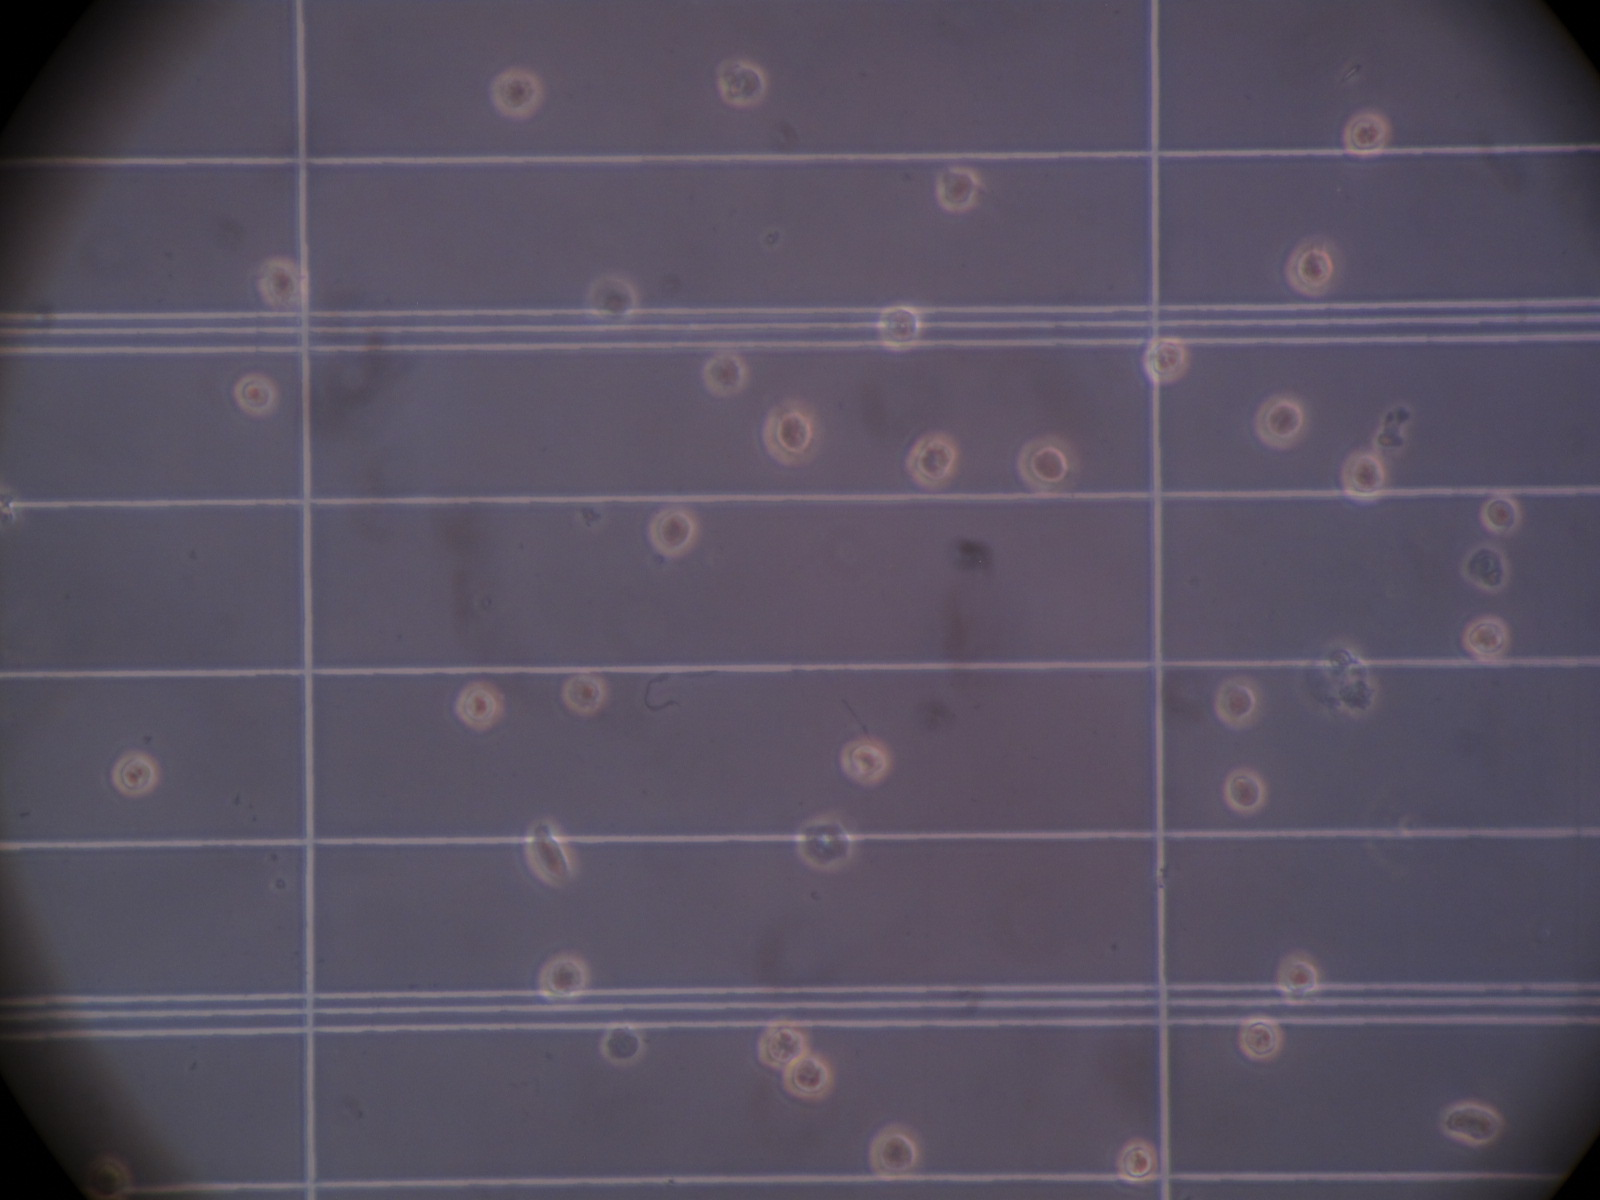hemo: (523, 816, 580, 887), (760, 396, 815, 466), (1017, 432, 1077, 497), (868, 1122, 923, 1182), (905, 429, 959, 490), (796, 816, 854, 872), (1252, 391, 1306, 449), (1441, 1100, 1504, 1147), (490, 68, 547, 118), (756, 1016, 810, 1068), (454, 679, 505, 732), (646, 505, 699, 557), (1285, 239, 1335, 294), (256, 257, 307, 309), (839, 737, 893, 787), (539, 952, 590, 1003), (780, 1055, 834, 1103), (1342, 447, 1387, 504), (585, 275, 637, 323), (110, 750, 161, 798), (1213, 676, 1260, 729), (716, 58, 766, 106), (1141, 337, 1191, 384), (1459, 615, 1509, 662), (1464, 543, 1511, 592), (1238, 1011, 1283, 1063), (1114, 1137, 1159, 1186), (597, 1022, 648, 1066), (231, 373, 278, 417), (704, 350, 747, 400), (1344, 112, 1390, 158), (1276, 949, 1320, 996), (82, 1158, 134, 1197), (1225, 768, 1267, 814), (936, 165, 979, 212), (878, 303, 920, 350), (563, 673, 607, 713), (1480, 495, 1522, 534)
